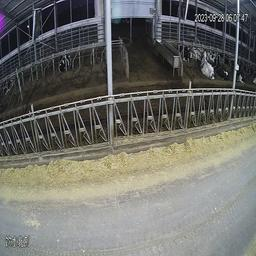cow: (200, 48, 215, 82), (54, 46, 71, 75), (216, 56, 229, 83), (180, 42, 192, 64), (238, 65, 246, 83)
